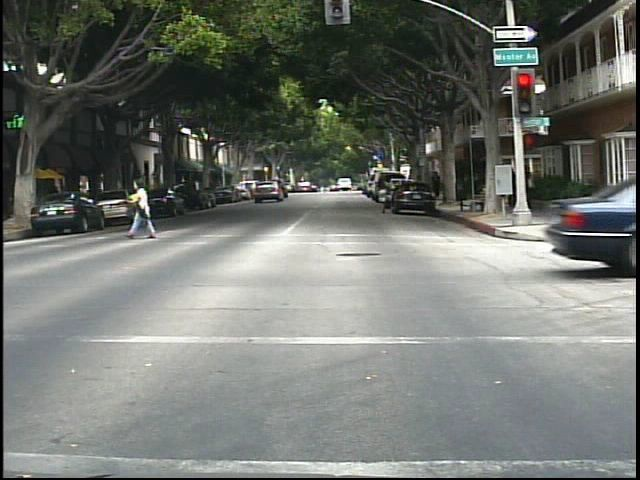person: (125, 173, 160, 241), (374, 176, 392, 218), (433, 168, 442, 200)
